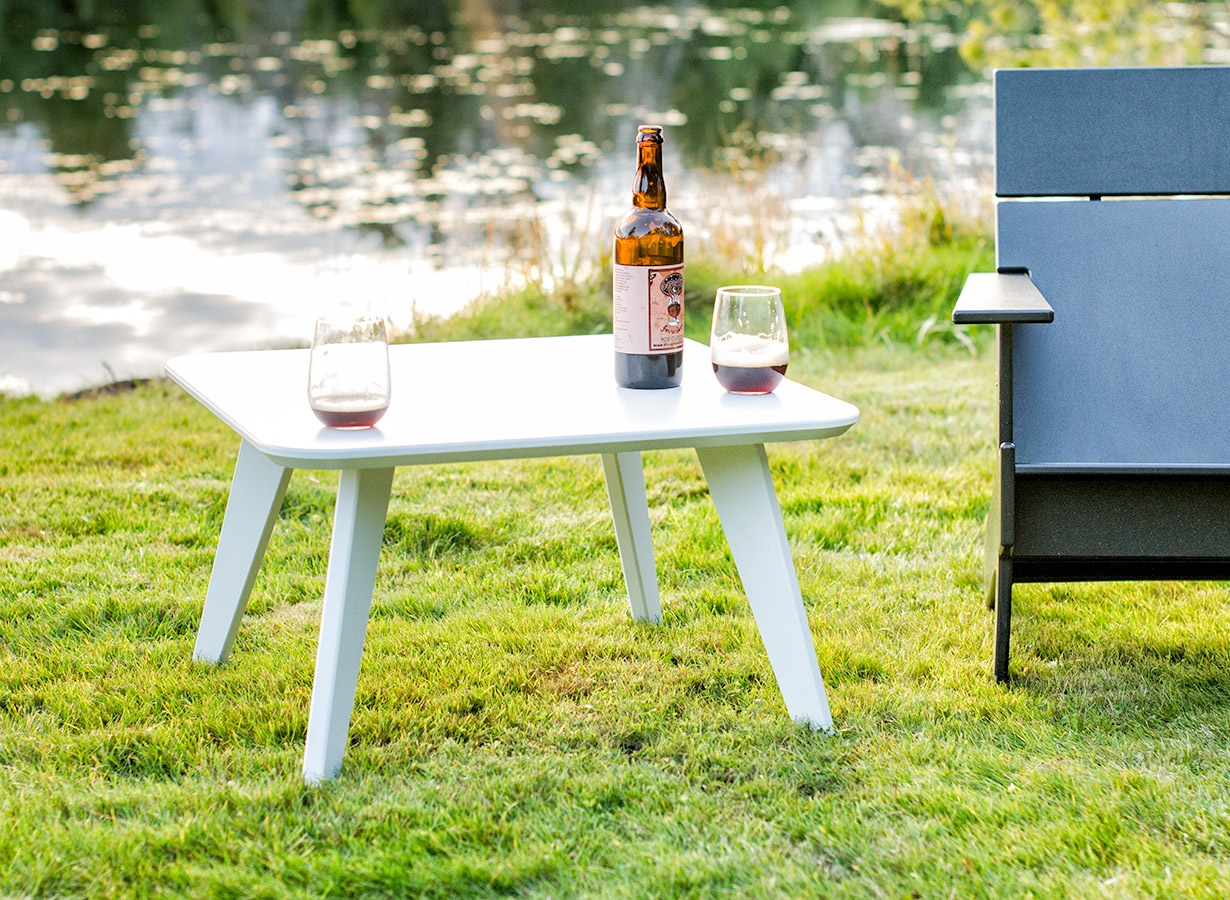beerBottle: (617, 128, 685, 388)
